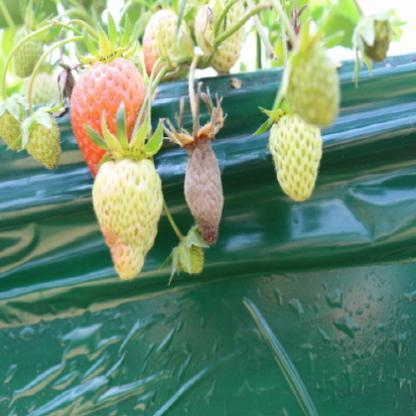Strawberry_Gray_Mold: (161, 93, 224, 246)
